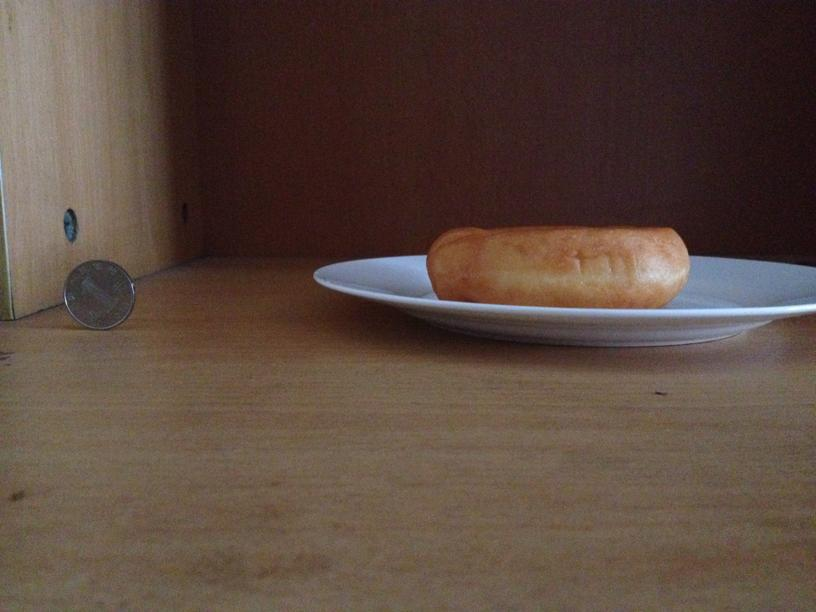coin: (424, 221, 688, 306)
doughnut: (424, 221, 688, 306)
